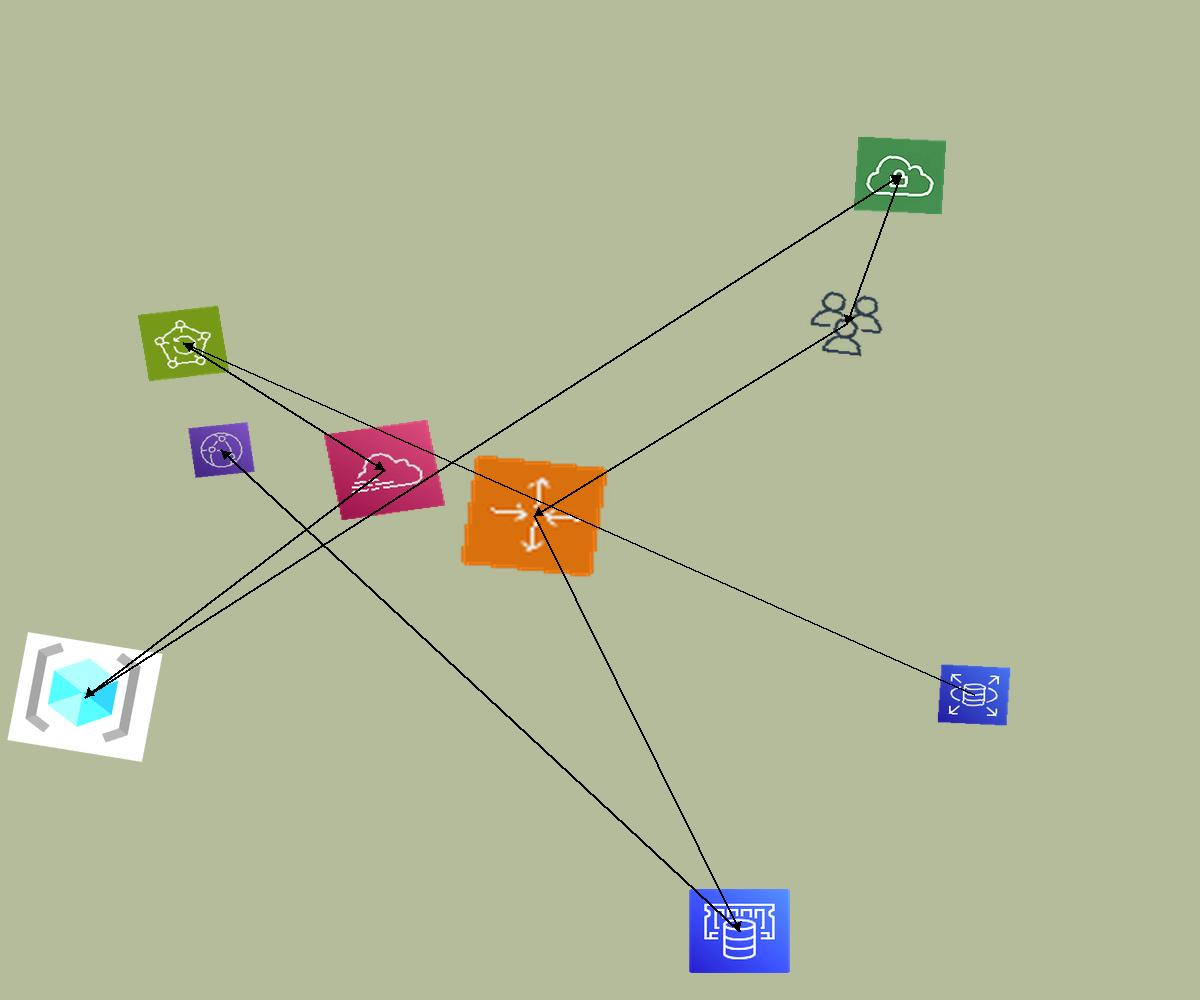AWS-Backup: (137, 305, 230, 382)
AWS-CloudFront: (188, 422, 255, 478)
AWS-CloudTrail: (323, 419, 446, 521)
AWS-ElastiCache: (688, 888, 791, 974)
AWS-Private_vpc: (853, 136, 947, 215)
AWS-RDS: (937, 664, 1011, 726)
AWS-Res_Users: (801, 286, 892, 362)
AWS-Scaling-group: (458, 453, 610, 579)
Azure_resource_group: (7, 632, 163, 762)
